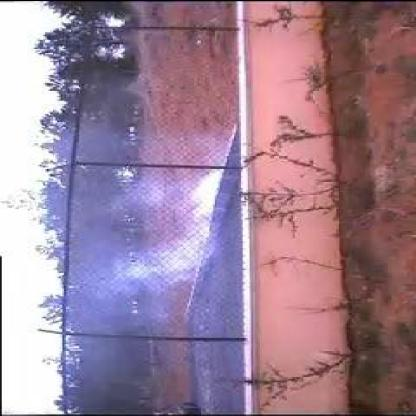-: (78, 169, 224, 322)
